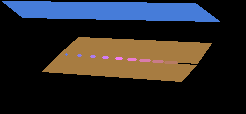parkingspot: (2, 1, 219, 21), (42, 54, 196, 81), (60, 37, 211, 63)
